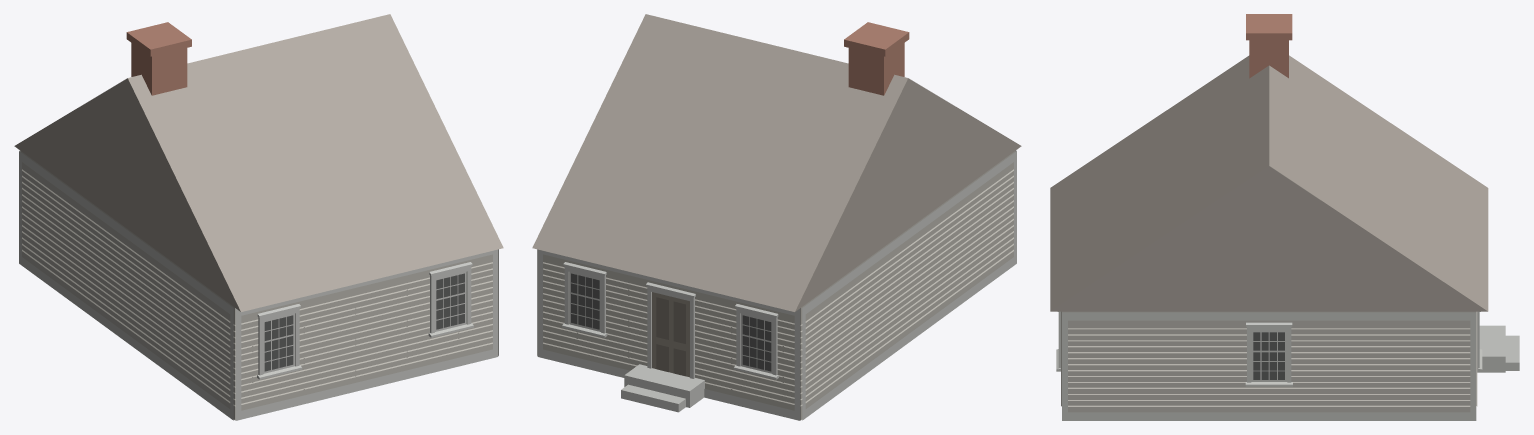
File: recon_1835_blk_west_randolph_canal_d4_02__inferred_1835.glb
3 renders of one model, left to right at view 1: azimuth 30°, elevation 25°; view 2: azimuth 150°, elevation 25°; view 3: azimuth 270°, elevation 25°, orthographic. The views are drawn at different scales.
Parts seen in each view (by area): view 1: recon_1835_blk_west_randolph_canal_d4_02__inferred_1835; view 2: recon_1835_blk_west_randolph_canal_d4_02__inferred_1835; view 3: recon_1835_blk_west_randolph_canal_d4_02__inferred_1835.
Part boxes in pixels (x1=…): recon_1835_blk_west_randolph_canal_d4_02__inferred_1835: x1=14, y1=14, x2=503, y2=420; recon_1835_blk_west_randolph_canal_d4_02__inferred_1835: x1=532, y1=14, x2=1021, y2=420; recon_1835_blk_west_randolph_canal_d4_02__inferred_1835: x1=1050, y1=14, x2=1519, y2=420.
Bounding box in the file's own units: 6.37 × 6.75 × 9.97.
